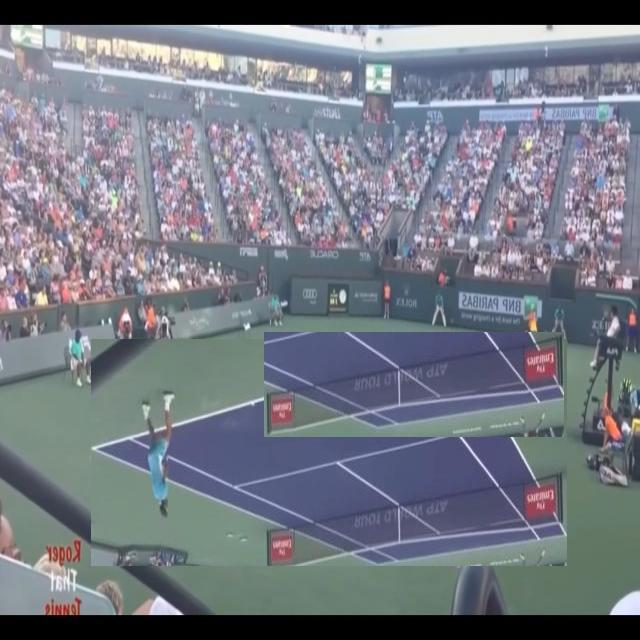court: (91, 340, 567, 568)
net: (264, 332, 564, 437)
player: (142, 387, 176, 515)
